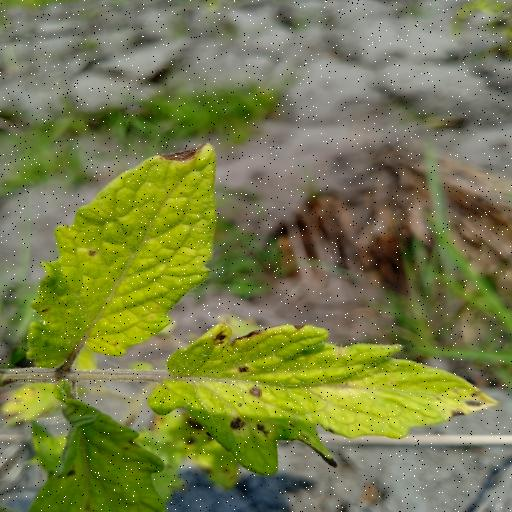Tomato_Brown_Spots: (148, 314, 504, 475), (17, 137, 224, 366)
